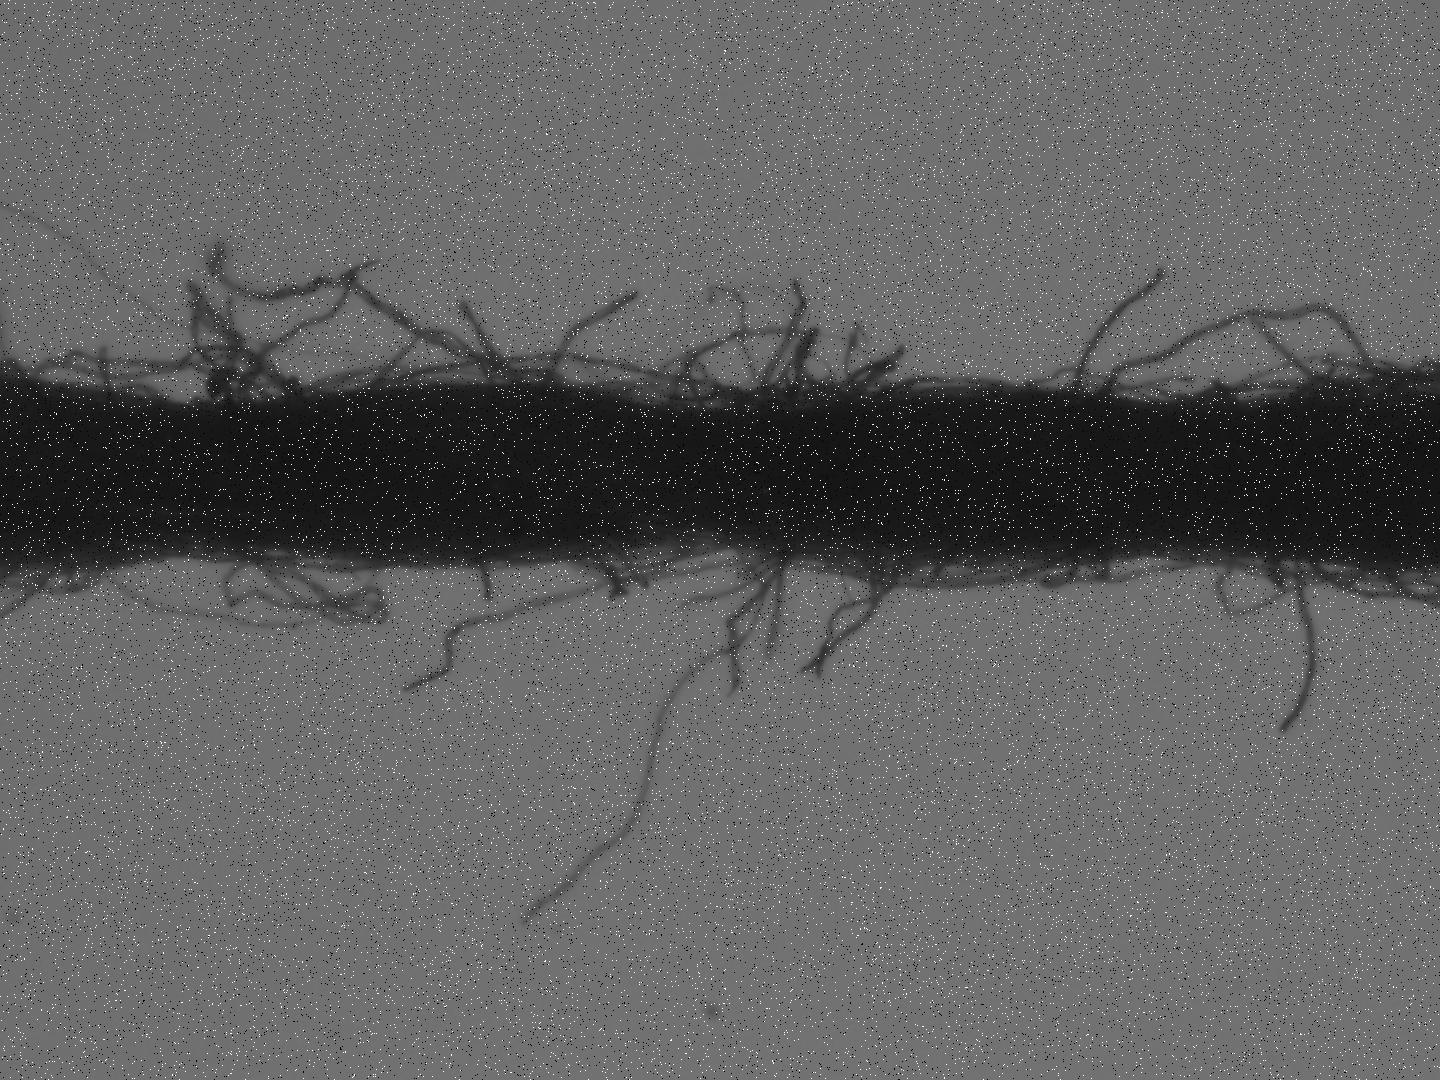loop_fiber: (9, 280, 329, 421), (1081, 297, 1382, 425), (77, 535, 410, 640), (711, 520, 1108, 602), (642, 320, 856, 402), (371, 326, 498, 387), (561, 539, 689, 585), (880, 372, 1027, 395), (1311, 555, 1372, 591)
protruding_fiber: (1061, 259, 1172, 405), (549, 285, 643, 386), (1277, 554, 1324, 734)
